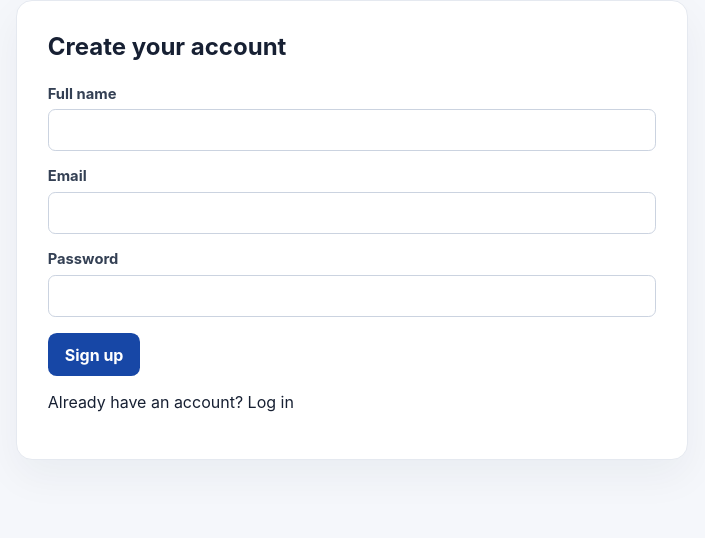
Test case: login and register forms › shows the duplicate email error from the server
Type "Ana" into the field labelled "Full name". click: (352, 130)
box: [48,109,656,152]
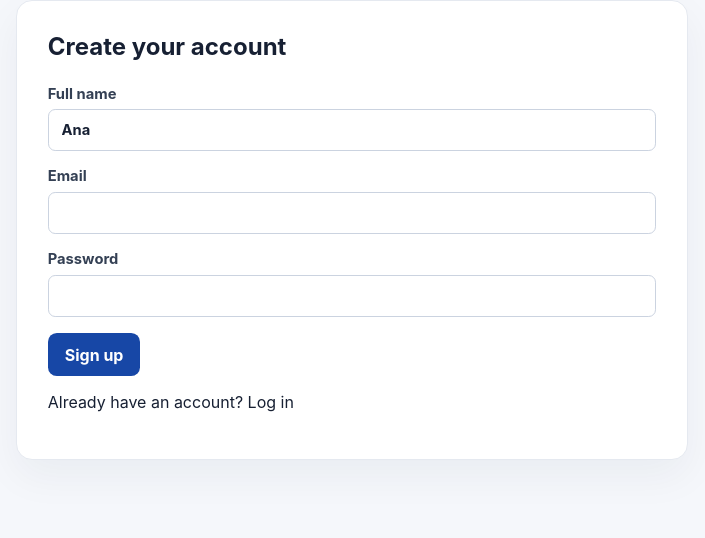
Type "ana@example.com" into the field labelled "Email". click: (352, 213)
box: [48,192,656,234]
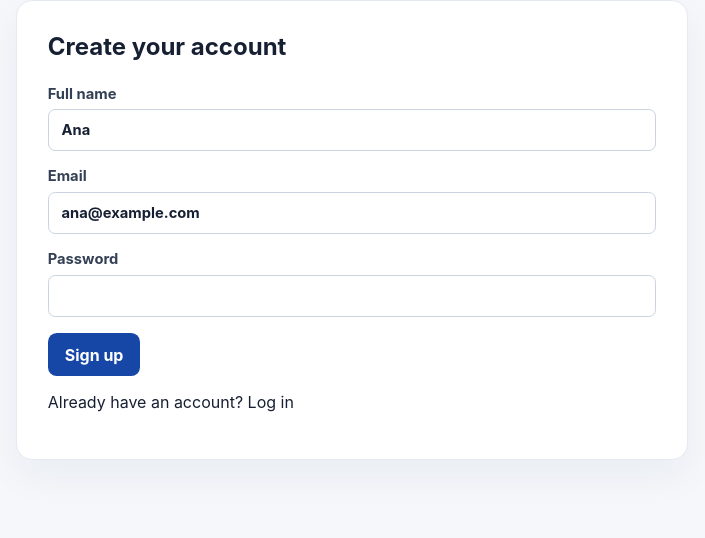
Type "long-enough-password" into the password field labelled "Password". click: (352, 296)
box: [48,275,656,317]
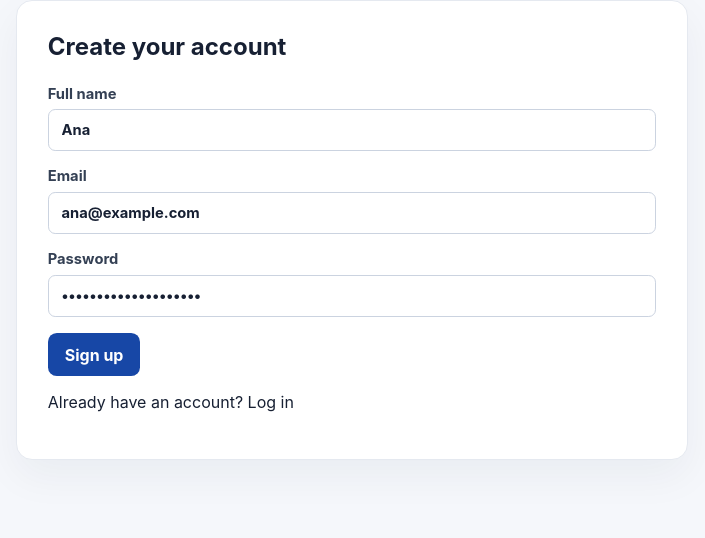
Click the button "Sign up". click: (94, 355)
box: [48,333,140,376]
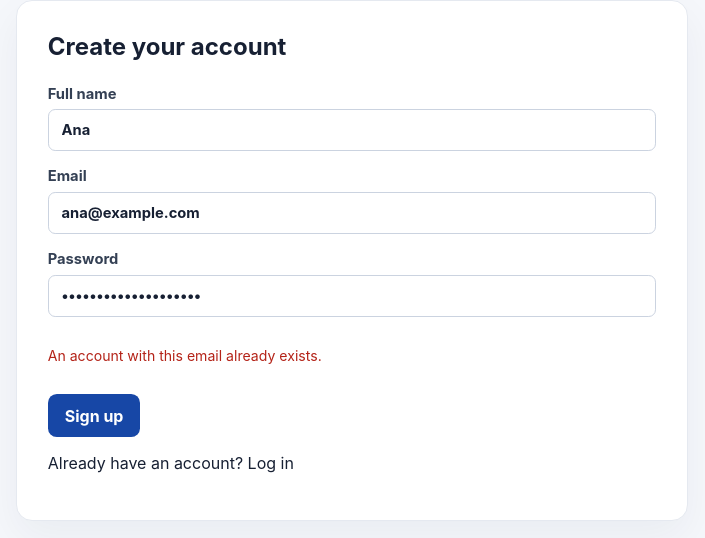
Expected: the message shows "already exists", [48,347,322,364]
